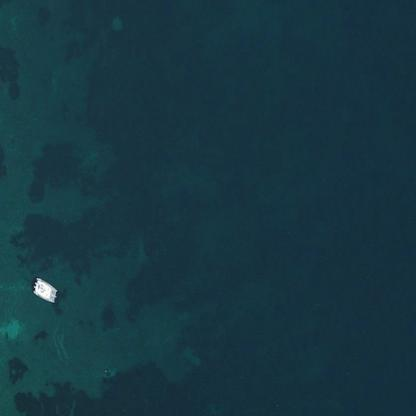ship: (31, 274, 58, 305)
